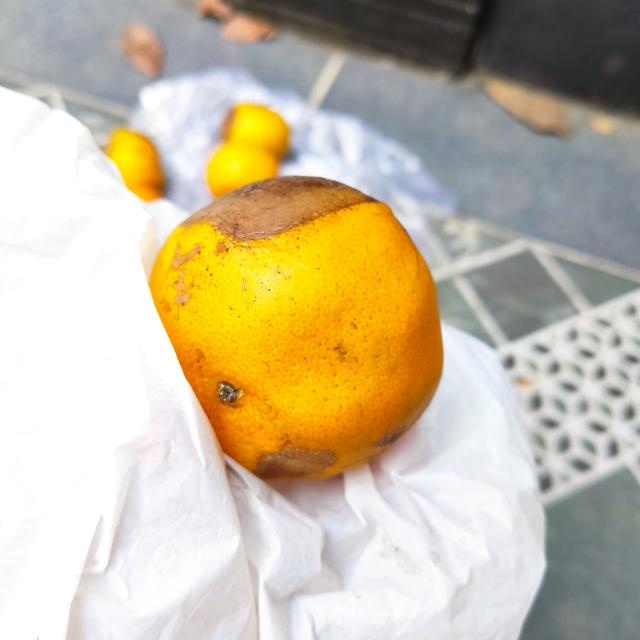orange: (148, 173, 445, 483)
